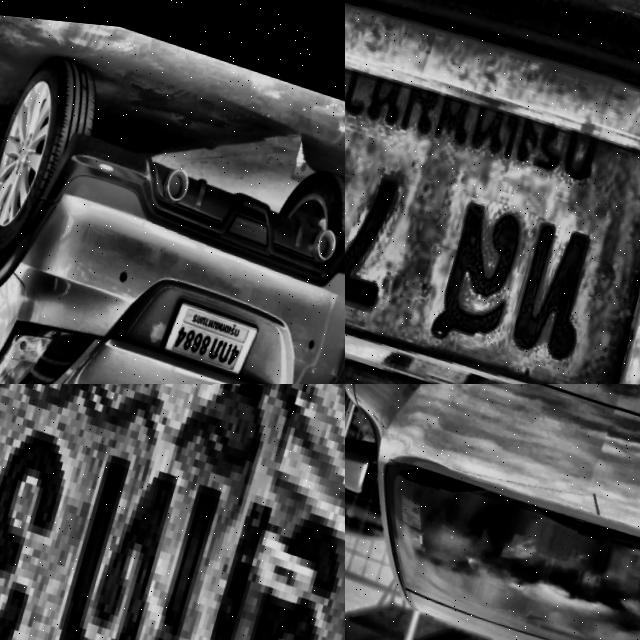license-plate: (345, 0, 640, 384), (0, 384, 345, 640), (161, 282, 262, 371)
